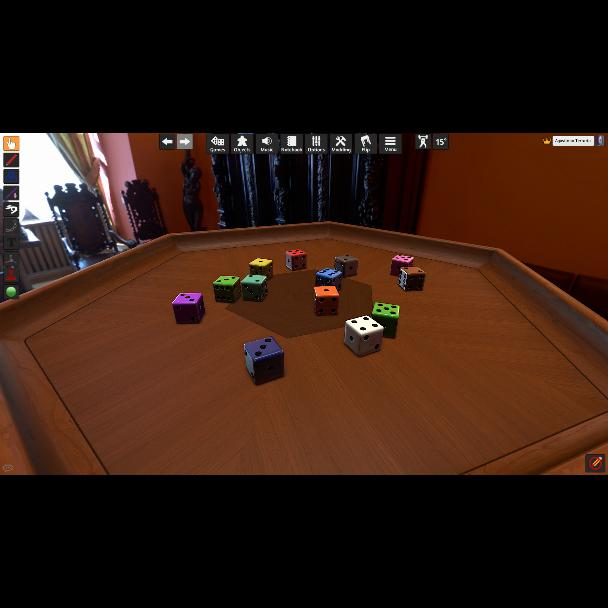d6: (244, 335, 286, 384), (344, 316, 384, 356), (172, 292, 206, 324), (372, 303, 398, 339), (214, 276, 241, 304), (241, 274, 268, 302), (314, 286, 339, 316), (399, 266, 426, 292), (315, 268, 341, 292), (390, 254, 414, 278), (334, 254, 357, 278), (249, 258, 273, 280), (286, 250, 306, 270)
